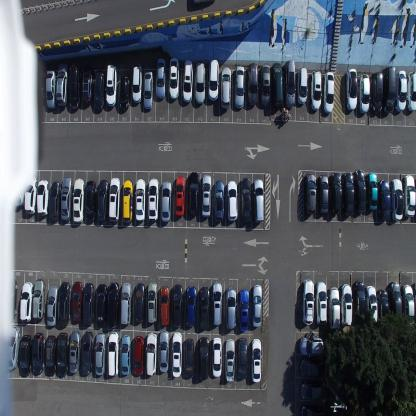car: (6, 324, 20, 372), (314, 280, 328, 326), (383, 65, 396, 114), (402, 174, 416, 218), (390, 178, 404, 222), (32, 278, 46, 322), (4, 278, 18, 322), (31, 332, 45, 376), (302, 278, 315, 325), (284, 58, 296, 108), (56, 332, 69, 378), (376, 288, 390, 330), (107, 280, 119, 329), (108, 177, 121, 222), (107, 331, 120, 376), (69, 62, 81, 110), (171, 331, 183, 379), (401, 283, 414, 327), (389, 281, 402, 325), (340, 283, 353, 327), (328, 286, 341, 330), (299, 357, 325, 379), (370, 71, 383, 115), (344, 67, 357, 111), (145, 332, 158, 376), (94, 332, 107, 376), (82, 282, 95, 326), (20, 280, 33, 324), (271, 62, 283, 109), (58, 281, 70, 328), (81, 329, 93, 376), (378, 178, 391, 221), (96, 180, 109, 223), (72, 177, 84, 223), (56, 62, 68, 108), (146, 280, 158, 326), (69, 329, 81, 375), (301, 380, 326, 402), (354, 168, 366, 213), (253, 177, 265, 222), (225, 286, 237, 331), (120, 281, 132, 326), (95, 282, 107, 327), (357, 73, 370, 114), (342, 172, 354, 216), (354, 280, 366, 324), (182, 59, 194, 103), (168, 56, 180, 100), (147, 178, 159, 222), (198, 286, 210, 330), (185, 284, 197, 328), (299, 335, 324, 356), (23, 176, 36, 216), (240, 176, 251, 223), (45, 68, 57, 111), (105, 63, 117, 106), (46, 284, 58, 327), (19, 334, 31, 377), (188, 171, 199, 217), (122, 178, 133, 224), (61, 175, 72, 221), (212, 281, 223, 327), (365, 284, 377, 326), (194, 62, 206, 104), (160, 180, 172, 222), (49, 180, 61, 222), (142, 69, 154, 111), (238, 288, 250, 330), (120, 333, 132, 375), (247, 62, 258, 107), (260, 63, 271, 108), (135, 177, 146, 222), (172, 283, 183, 328), (310, 69, 322, 110), (12, 168, 24, 209), (132, 335, 144, 376), (330, 171, 341, 215), (305, 171, 316, 215), (208, 57, 219, 101), (82, 62, 93, 106), (93, 70, 104, 114), (71, 280, 82, 324), (366, 170, 378, 210), (296, 66, 308, 106), (396, 69, 407, 112), (201, 173, 212, 216), (86, 180, 97, 223), (318, 172, 329, 214), (323, 71, 334, 113), (159, 285, 170, 327), (134, 282, 145, 324), (118, 73, 130, 111), (227, 180, 238, 221), (174, 176, 185, 217), (234, 64, 244, 109), (252, 283, 262, 328), (199, 335, 209, 380), (37, 179, 49, 216), (221, 65, 231, 109), (251, 338, 261, 382), (225, 338, 235, 382), (159, 330, 169, 374), (45, 333, 55, 377), (406, 70, 416, 113), (214, 180, 224, 222), (156, 58, 166, 100), (132, 62, 142, 104), (237, 337, 247, 379), (212, 337, 222, 378), (185, 338, 195, 378), (35, 68, 46, 103), (300, 404, 325, 415), (192, 0, 214, 5)
